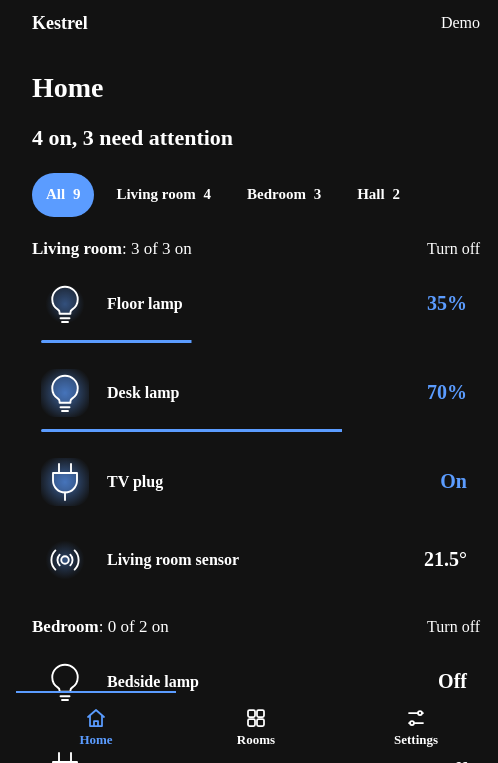
App › Rooms › will not remove a room that still has devices, and says why
What coordinates should you click on to do the following:
click the link "Rooms"
I would click on:
 (256, 726)
Its box is [237,706,275,747].
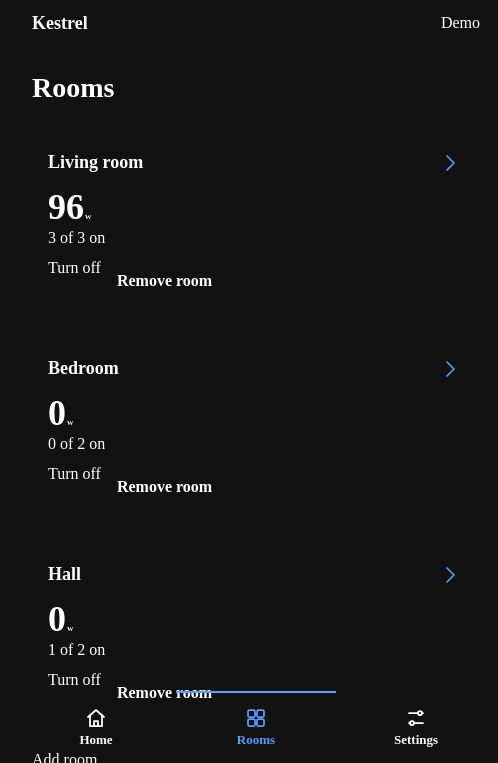
What coordinates should you click on to do the following:
click the button with aria-label "Remove room Bedroom"
I would click on:
 (164, 487)
Its box is [113,465,216,509].
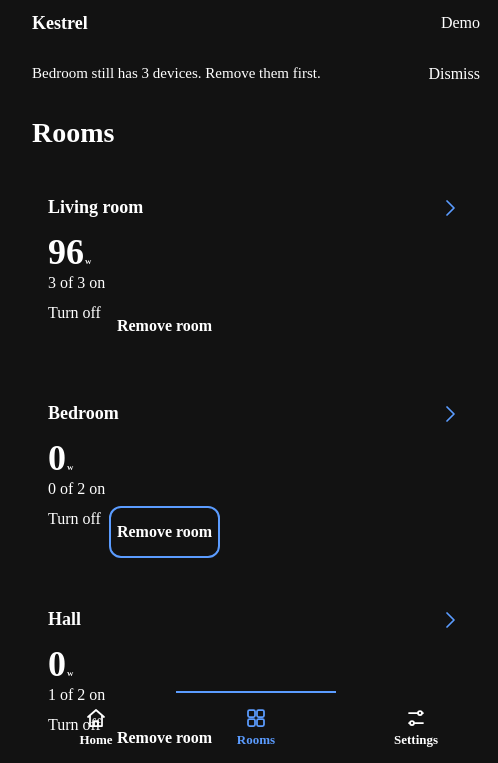
Check: the heading "Bedroom" is shown, box [48,403,119,424]
Check: the message reads "Bedroom still has 3 devices. Remove them first.", box [32,65,321,81]
